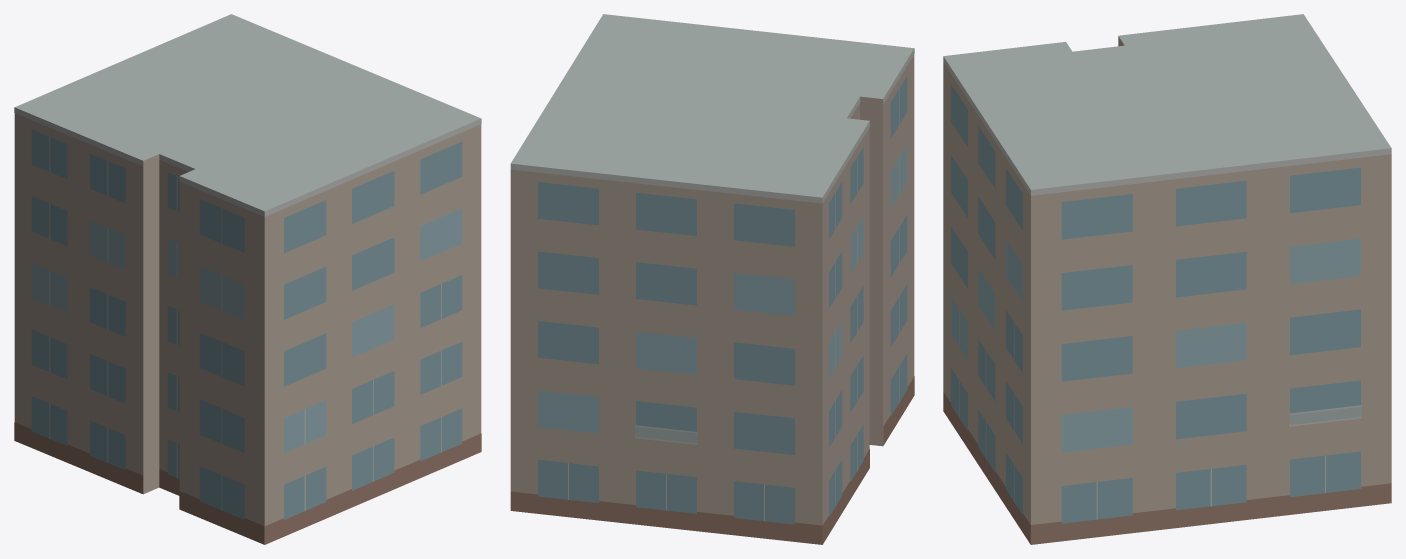
The model's file is survey-upis-32613810.glb.
The picture shows the model from 3 angles, left to right: view 1: azimuth 30°, elevation 25°; view 2: azimuth 150°, elevation 25°; view 3: azimuth 270°, elevation 25°; orthographic projection. The views are drawn at different scales.
Visible parts, largest first — view 1: survey-upis-32613810.tmp; view 2: survey-upis-32613810.tmp; view 3: survey-upis-32613810.tmp.
Boxes of the visible parts, x1=… form: survey-upis-32613810.tmp: x1=14, y1=14, x2=481, y2=544; survey-upis-32613810.tmp: x1=510, y1=14, x2=914, y2=544; survey-upis-32613810.tmp: x1=943, y1=14, x2=1391, y2=544.
Bounding box in the file's own units: 15.42 × 14.5 × 16.61.
